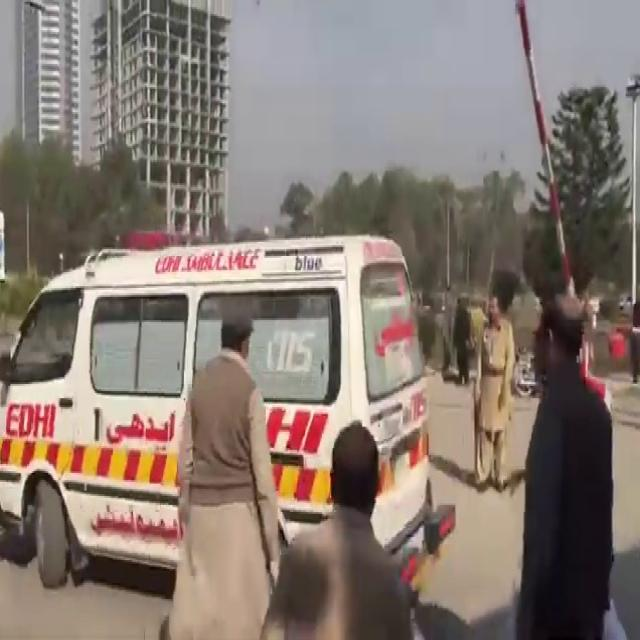ambulance: (3, 261, 431, 576)
